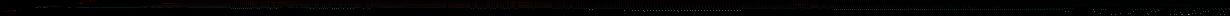Blue cone: (30, 7, 36, 8)
Yellow cone: (789, 4, 812, 8), (239, 2, 259, 6), (933, 6, 942, 8)
